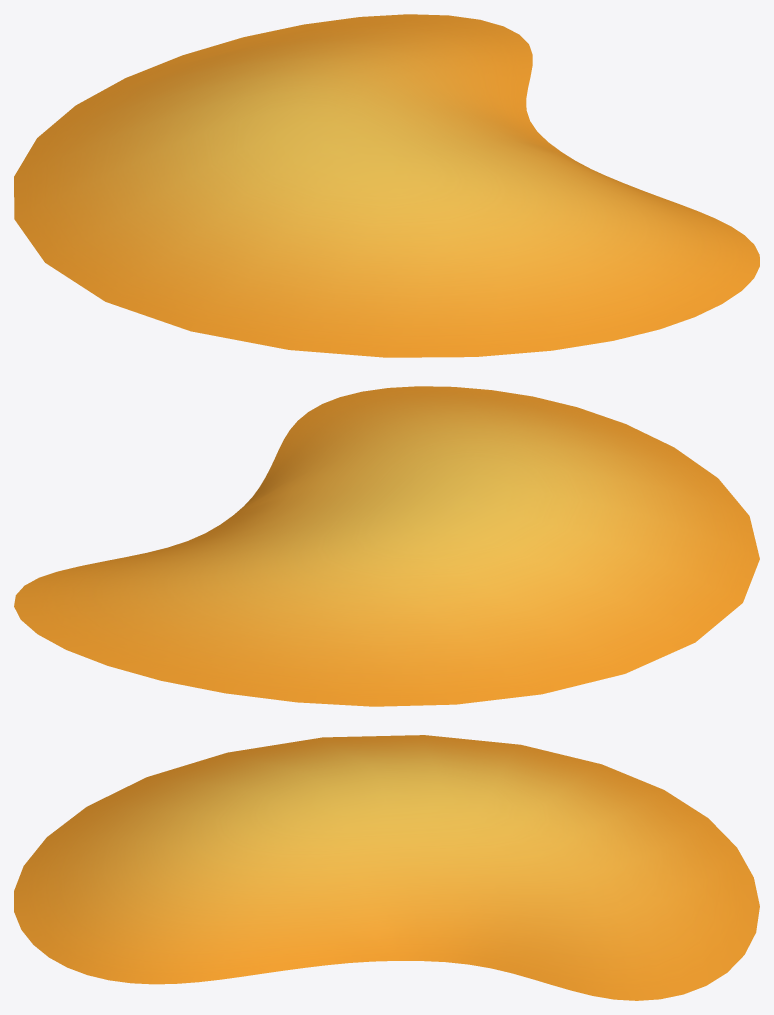
File: ground_002.glb
3 views of the same model, one above another, from view 1: azimuth 30°, elevation 25°; view 2: azimuth 150°, elevation 25°; view 3: azimuth 270°, elevation 25° (orthographic). The views are drawn at different scales.
Visible parts, largest first — view 1: ground_002; view 2: ground_002; view 3: ground_002.
Boxes of the visible parts, x1=… form: ground_002: x1=14, y1=14, x2=759, y2=357; ground_002: x1=14, y1=386, x2=759, y2=706; ground_002: x1=14, y1=735, x2=759, y2=1000.
Size of the model in its own units: 21.6 by 2.28 by 25.61.
1 material, 1 textured.
